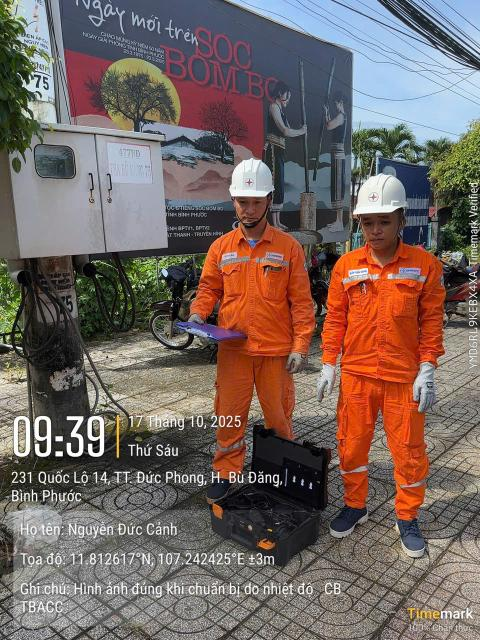gloves: (412, 350, 446, 419), (166, 306, 220, 348), (309, 362, 341, 401), (282, 345, 312, 382)
helmet: (208, 155, 284, 214), (339, 171, 419, 224)
shoes: (326, 483, 378, 547), (392, 506, 430, 560), (202, 471, 244, 509)
